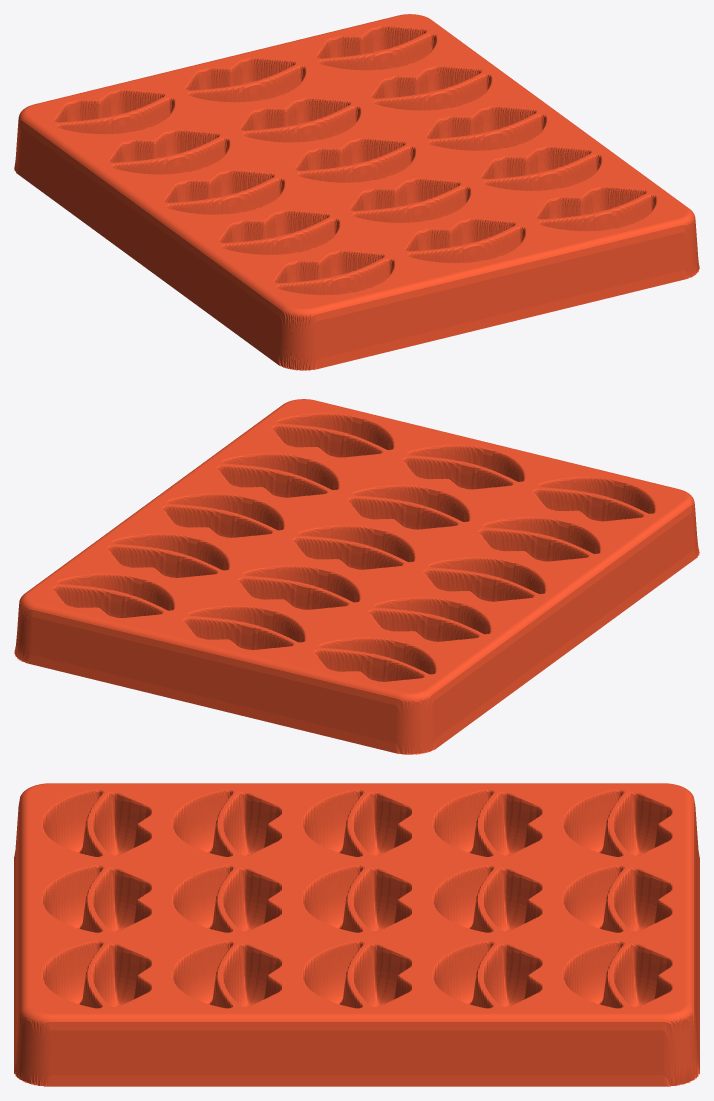
File: mold.glb
The picture shows the model from 3 angles, top to bottom: view 1: azimuth 30°, elevation 25°; view 2: azimuth 150°, elevation 25°; view 3: azimuth 270°, elevation 25°; orthographic projection. The views are drawn at different scales.
Parts seen in each view (by area): view 1: geometry_0; view 2: geometry_0; view 3: geometry_0.
Part boxes in pixels (left/top/right/bottom): geometry_0: left=14, top=14, right=699, bottom=370; geometry_0: left=14, top=399, right=699, bottom=754; geometry_0: left=14, top=783, right=699, bottom=1086.
Size of the model in its own units: 0.1415 by 0.0182 by 0.1694.
